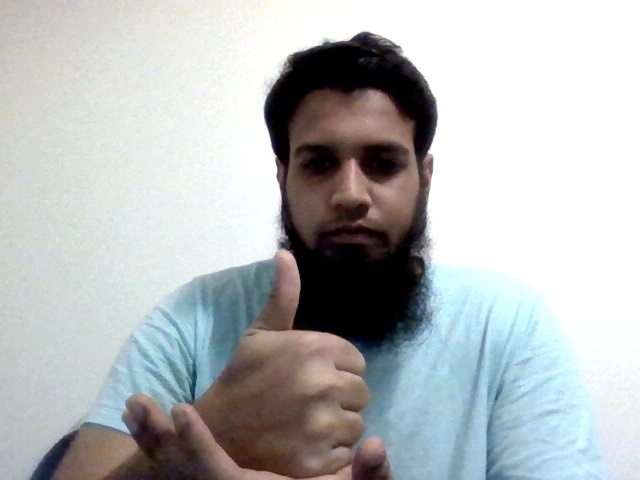help: (118, 246, 394, 479)
